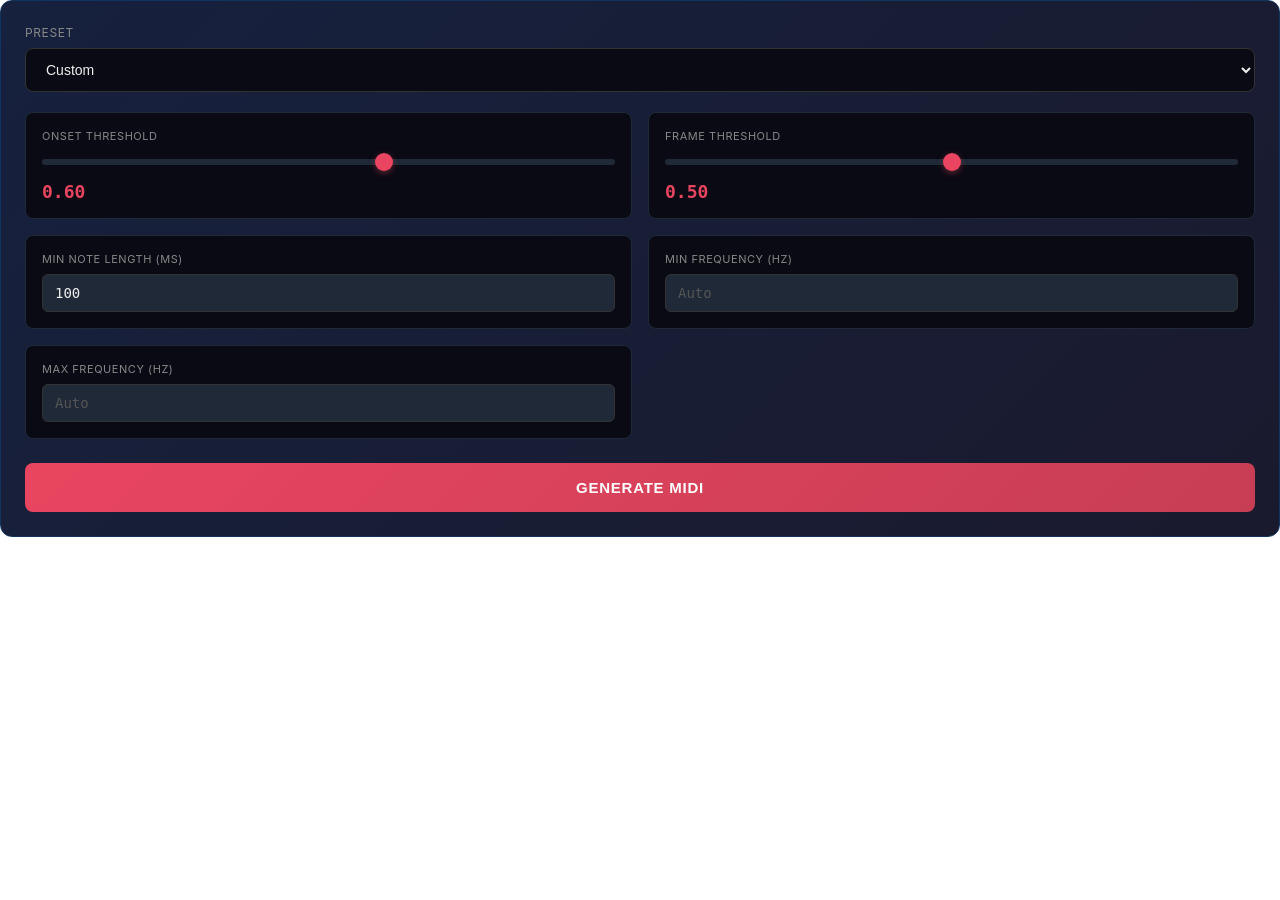
Test: MIDIGenerator › should display note count after generation
Click the button "Generate MIDI" at (640, 488), box [25,463,1255,512]
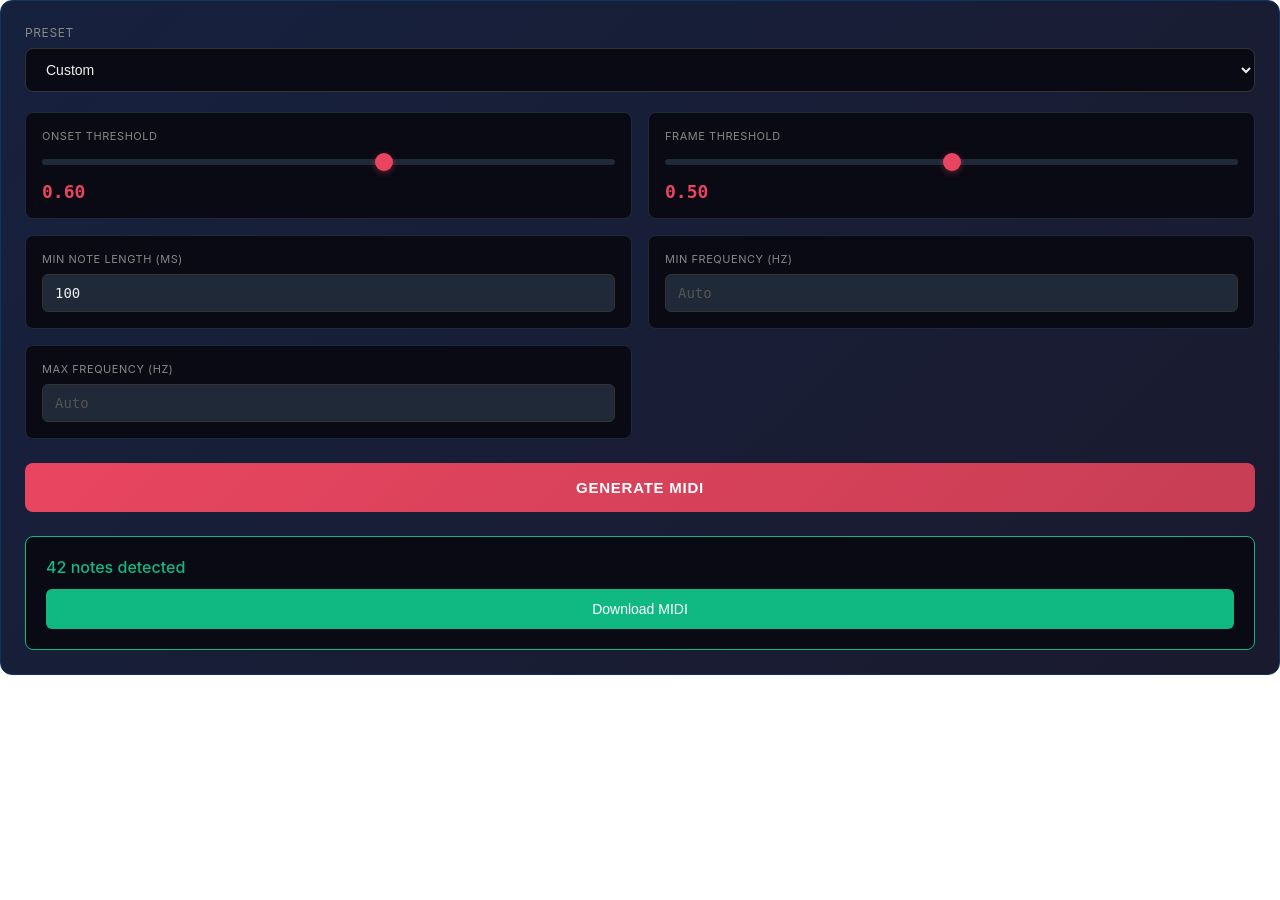
Expected: the text "42 notes detected" is shown, [46,557,185,577]
